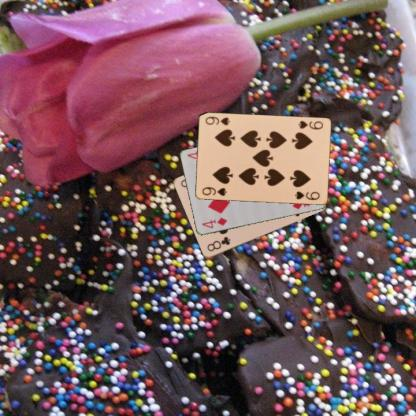4d: (199, 215, 228, 230)
8c: (204, 234, 232, 253)
9s: (199, 184, 228, 197), (295, 118, 324, 130)
